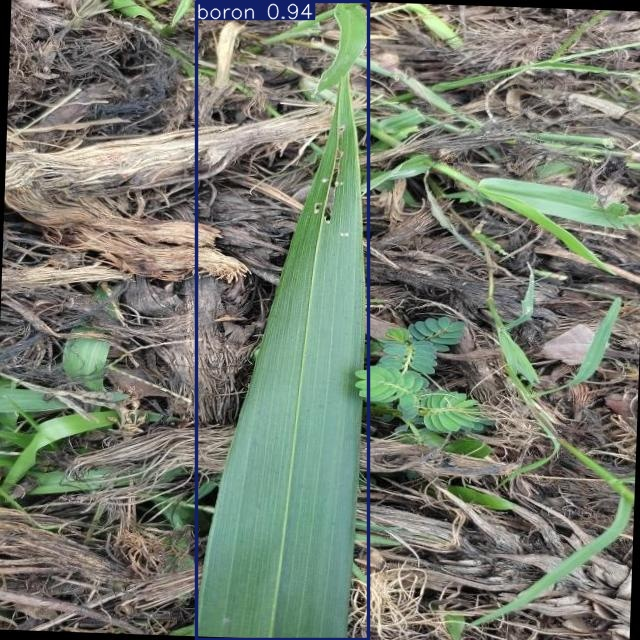nitrogen: (196, 2, 368, 639)
